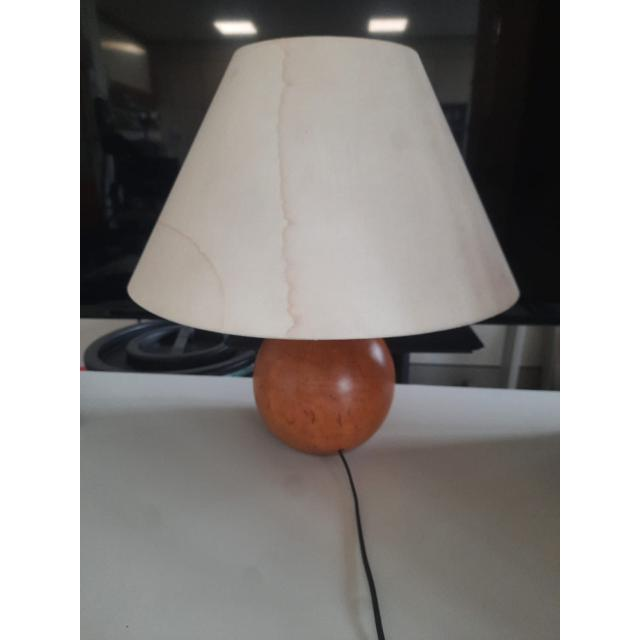lamp: (126, 36, 521, 458)
